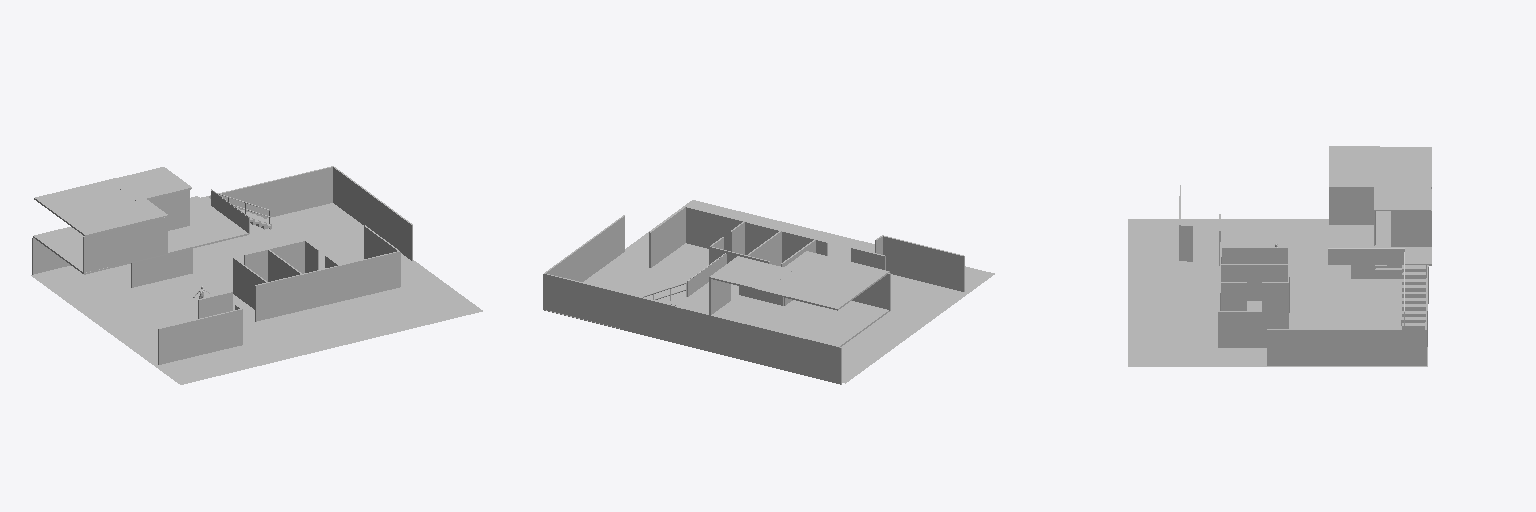
The model's file is apto4.obj.
The picture shows the model from 3 angles: view 1: azimuth 30°, elevation 25°; view 2: azimuth 150°, elevation 25°; view 3: azimuth 270°, elevation 25°; orthographic projection.
Parts seen in each view (by area): view 1: directionalLight7; view 2: directionalLight7; view 3: directionalLight7.
Boxes of the visible parts, <box> form: directionalLight7: <box>31,166,482,384</box>; directionalLight7: <box>543,200,994,384</box>; directionalLight7: <box>1128,146,1431,366</box>.
Size of the model in its own units: 2544 by 615 by 2214.